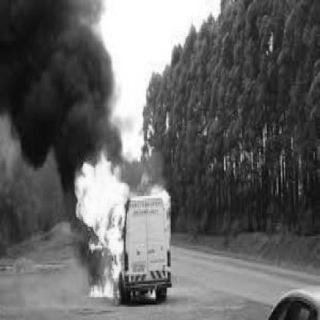Fire: (70, 151, 186, 311)
